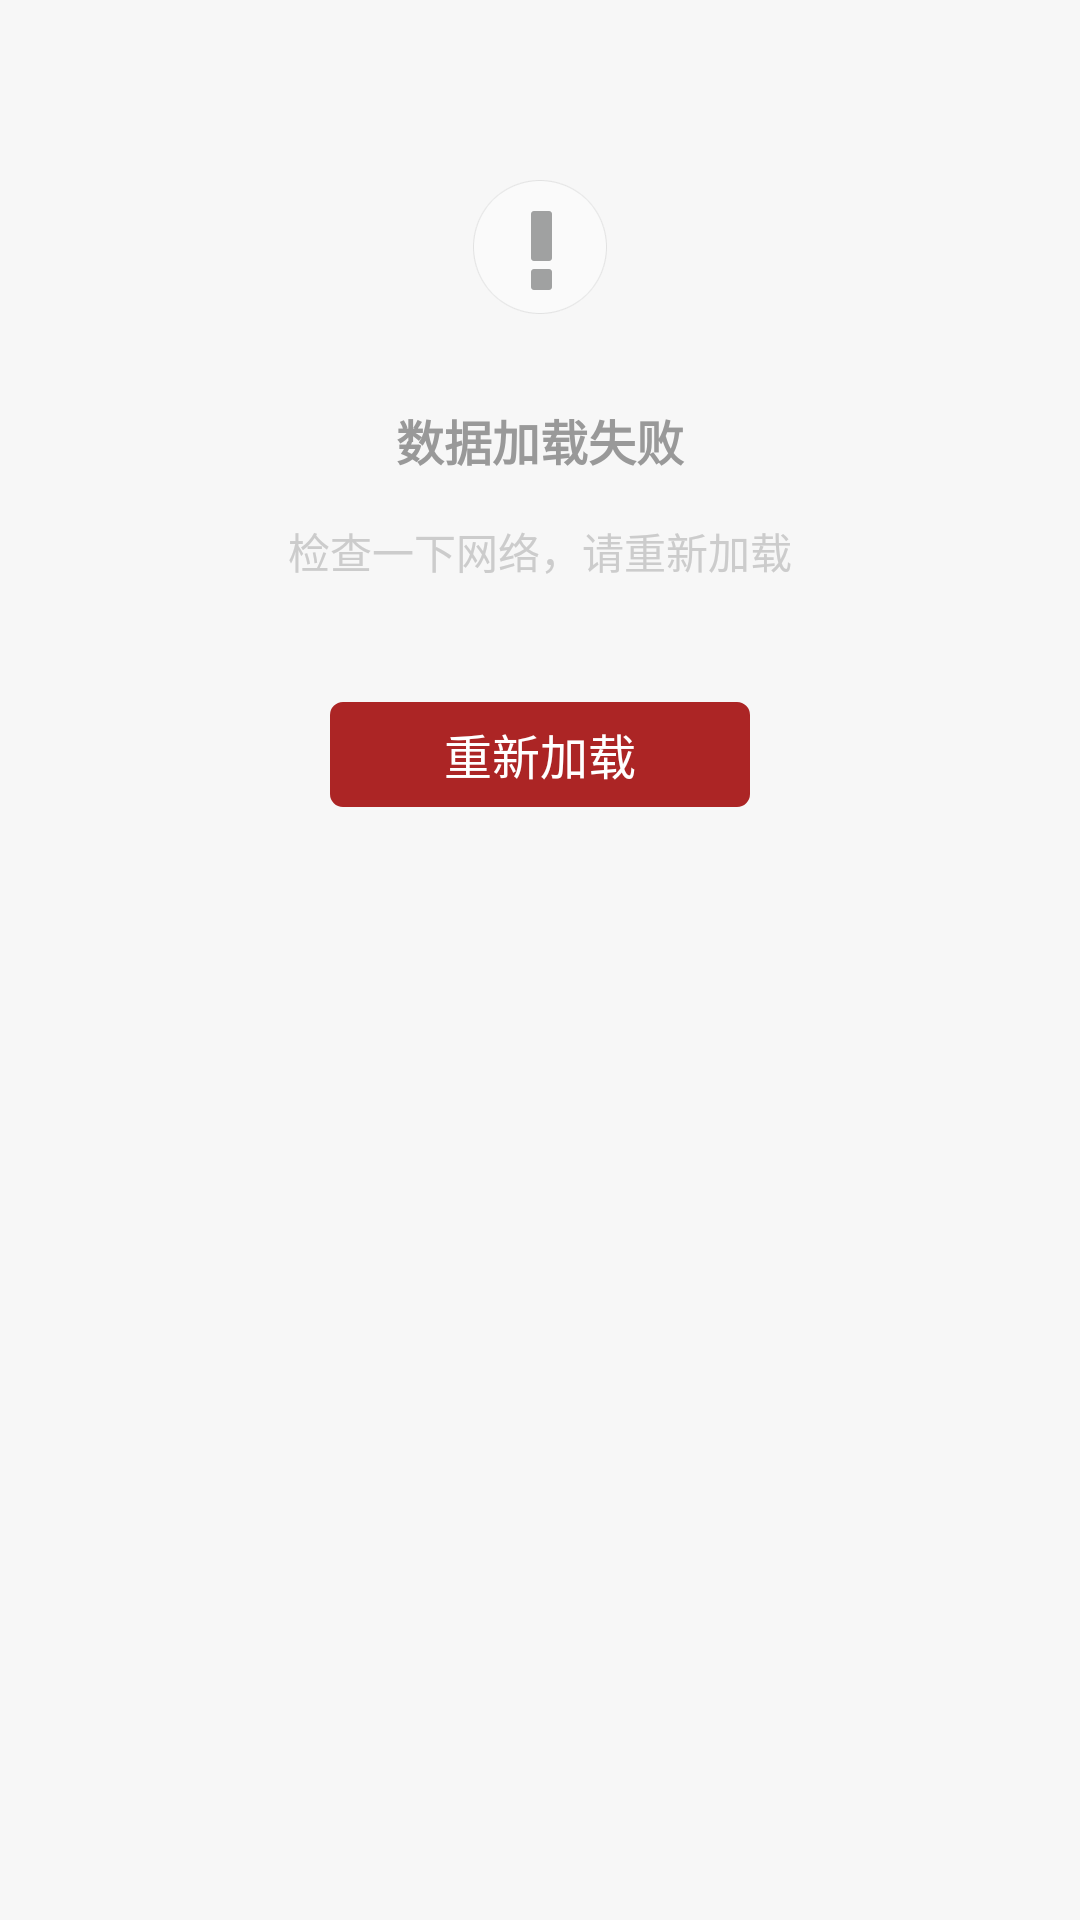

Screen size 1080 x 1920. Icon name, then its center in pixels as (x=x, y=y):
loaderror: (x=541, y=250)
